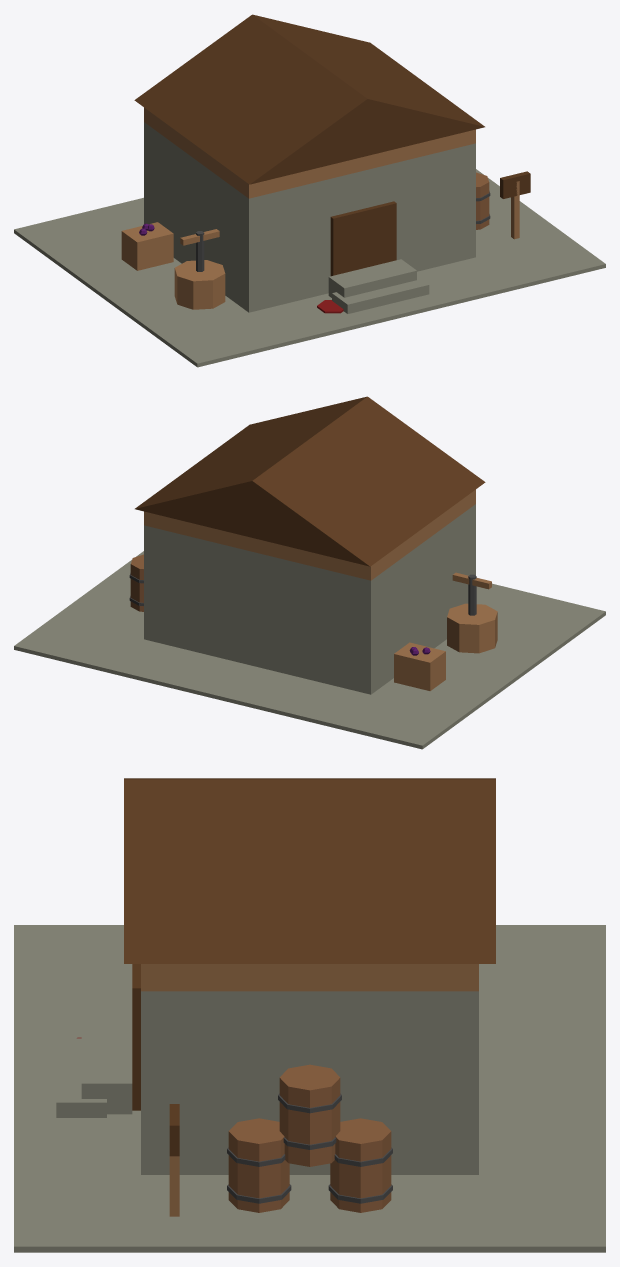
File: winery.glb
3 views of the same model, one above another, from view 1: azimuth 30°, elevation 25°; view 2: azimuth 150°, elevation 25°; view 3: azimuth 270°, elevation 25° (orthographic). The views are drawn at different scales.
Visible parts, largest first — view 1: Winery_Roof, Winery_Body, Ground, Winery_Upper, Cellar_Arch, Press_Base, Step1, GCrate1, Step2, Sign_Board, WBarrel_0; view 2: Winery_Body, Winery_Roof, Ground, Winery_Upper, Press_Base, GCrate1, WBarrel_1; view 3: Ground, Winery_Roof, Winery_Body, Winery_Upper, WBarrel_2, WBarrel_0, WBarrel_1, Step1, Step2, Cellar_Arch, Sign_Post.
Boxes of the visible parts, box(x1,y1,x2,y2) form: Winery_Roof: box(134, 14, 484, 184); Winery_Body: box(144, 122, 475, 312); Ground: box(14, 169, 605, 367); Winery_Upper: box(144, 107, 475, 198); Cellar_Arch: box(330, 201, 396, 276); Press_Base: box(174, 260, 225, 309); Step1: box(328, 259, 416, 297); GCrate1: box(121, 222, 173, 270); Step2: box(332, 276, 429, 313); Sign_Board: box(500, 171, 530, 198); WBarrel_0: box(476, 172, 489, 229); Winery_Body: box(144, 504, 475, 694); Winery_Roof: box(135, 396, 485, 566); Ground: box(14, 551, 605, 749); Winery_Upper: box(144, 489, 475, 580); Press_Base: box(447, 603, 497, 653); GCrate1: box(394, 642, 445, 690); WBarrel_1: box(130, 554, 143, 611); Ground: box(14, 925, 605, 1252); Winery_Roof: box(124, 778, 495, 963); Winery_Body: box(141, 991, 478, 1174); Winery_Upper: box(141, 964, 478, 991); WBarrel_2: box(279, 1064, 340, 1166); WBarrel_0: box(228, 1118, 289, 1212); WBarrel_1: box(330, 1118, 391, 1212); Step1: box(81, 1026, 132, 1114); Step2: box(56, 1038, 106, 1117); Cellar_Arch: box(132, 964, 140, 1110); Sign_Post: box(169, 1156, 179, 1216).
Bounding box in the file's own units: 4.5 × 2.05 × 3.5.
